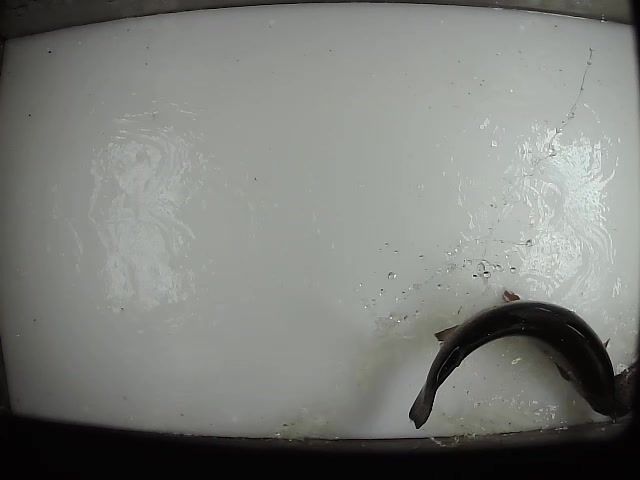fish: (407, 285, 627, 430)
